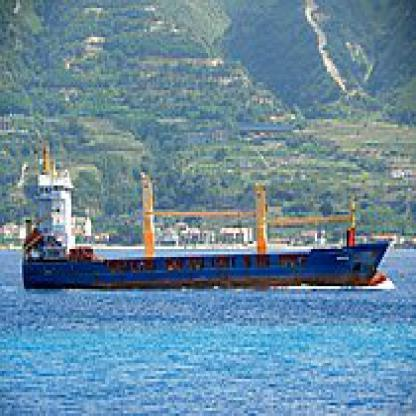Container Ship: (19, 141, 395, 291)
